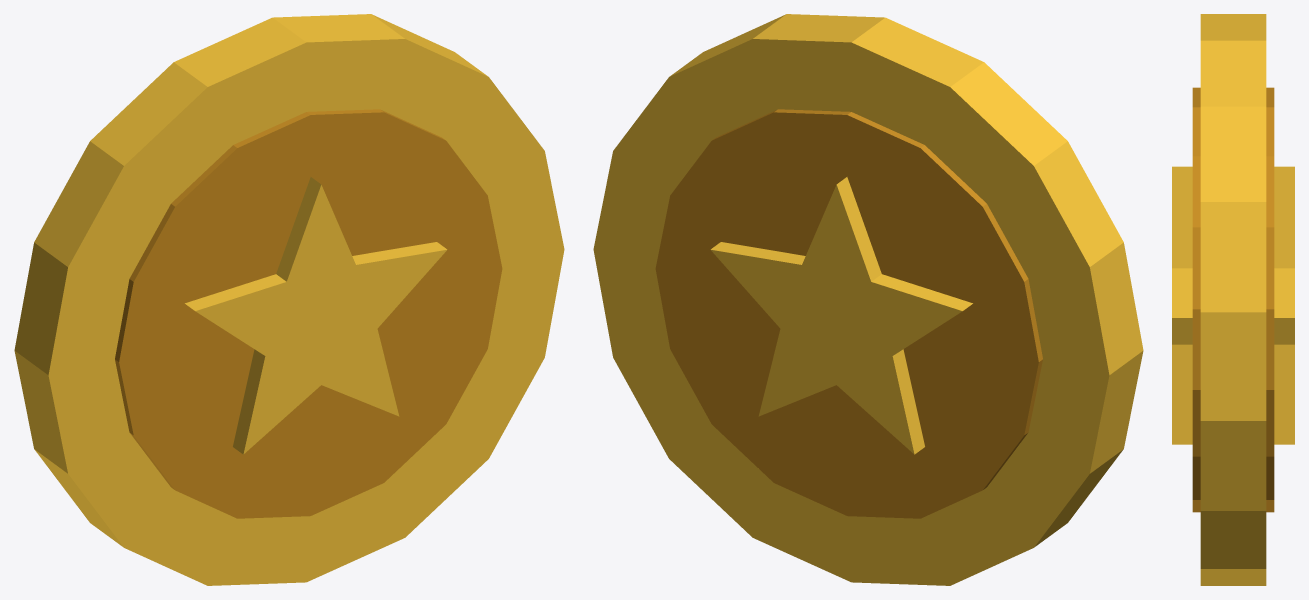
The model's file is Coin.glb.
The picture shows the model from 3 angles, left to right: view 1: azimuth 30°, elevation 25°; view 2: azimuth 150°, elevation 25°; view 3: azimuth 270°, elevation 25°; orthographic projection. The views are drawn at different scales.
Visible parts, largest first — view 1: Coin; view 2: Coin; view 3: Coin.
Part boxes in pixels (x1,y1,x2,y2): Coin: (14,14,564,585); Coin: (593,14,1143,585); Coin: (1172,14,1294,585).
Size of the model in its own units: 0.7 by 0.7 by 0.15.
Materials: 1 (1 with a texture image).
